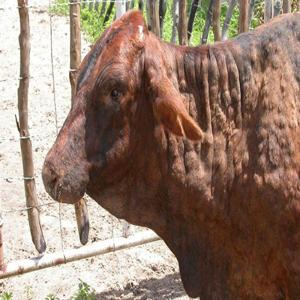lumpy skin diesease: (41, 7, 299, 299)
